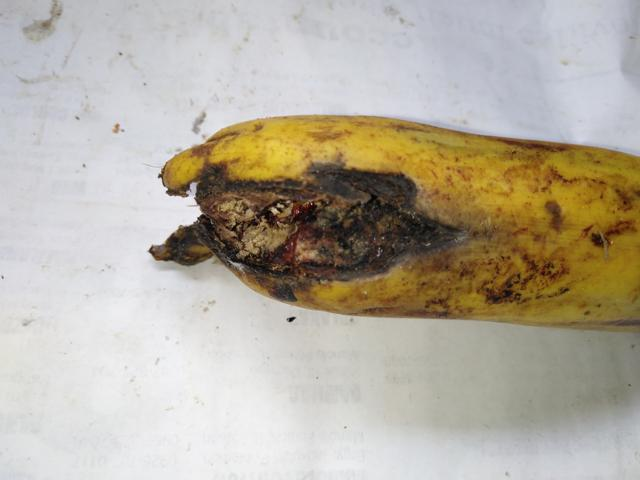ripe: (119, 117, 639, 352)
rotten: (145, 109, 486, 308)
